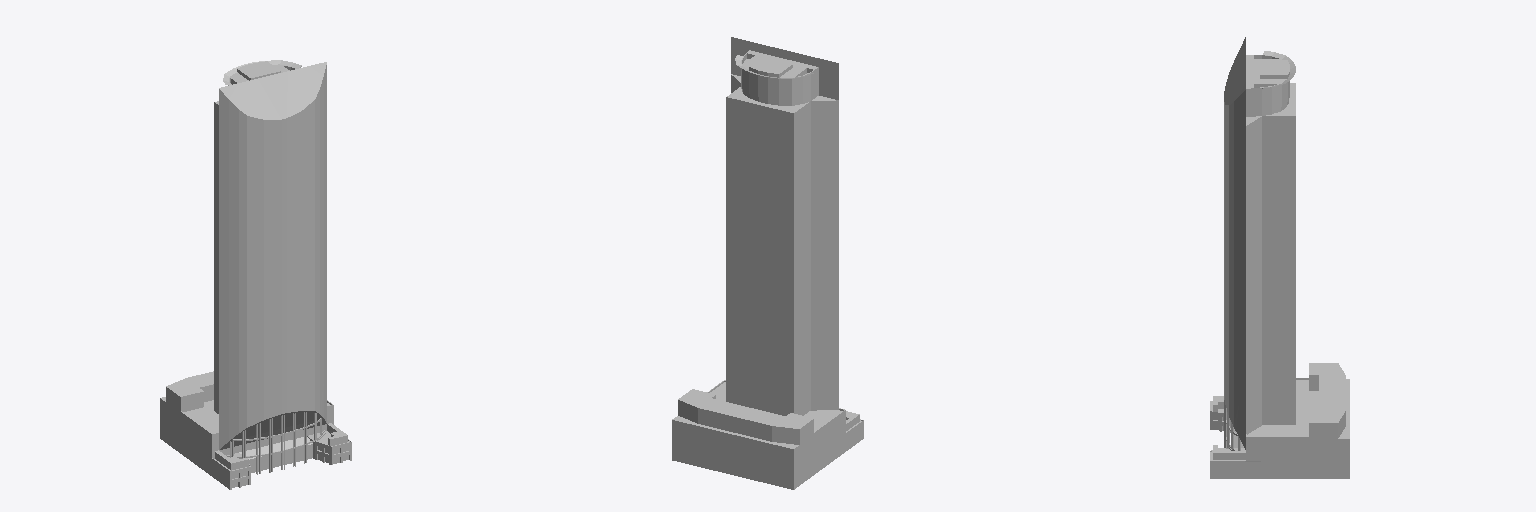
The model's file is eificio mayor.obj.
3 views of the same model, side by side, from view 1: azimuth 30°, elevation 25°; view 2: azimuth 150°, elevation 25°; view 3: azimuth 270°, elevation 25° (orthographic).
Visible parts, largest first — view 1: Box001; view 2: Box001; view 3: Box001.
Part boxes in pixels (x1,y1,x2,y2): Box001: (160, 60, 351, 489); Box001: (672, 37, 863, 489); Box001: (1210, 37, 1349, 478).
Bounding box in the file's own units: 21.54 × 65.52 × 21.54.